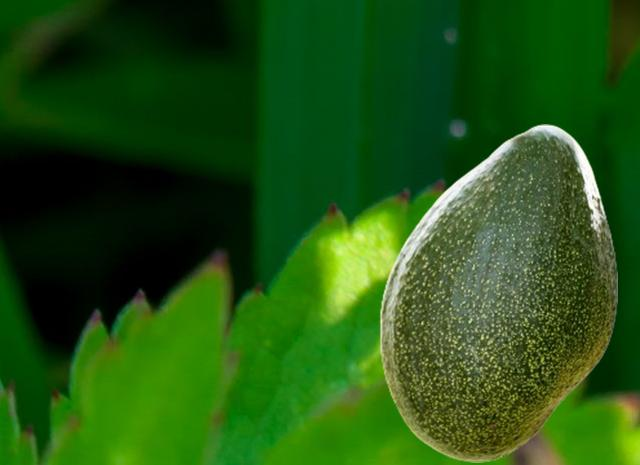avocado: (379, 124, 616, 461)
